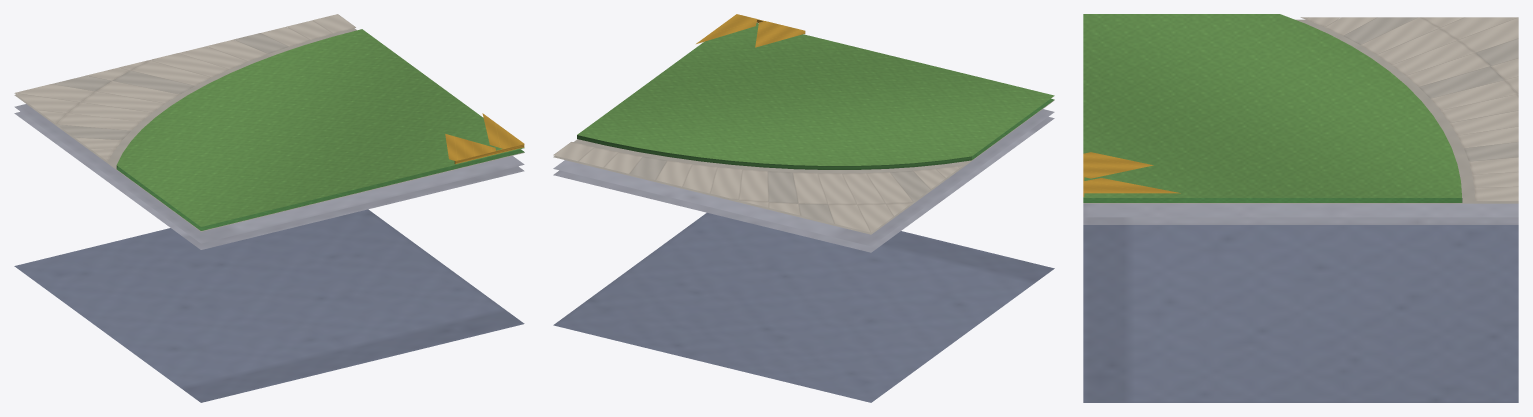
File: high_crown_fracture_27.obj
The picture shows the model from 3 angles, left to right: view 1: azimuth 30°, elevation 25°; view 2: azimuth 150°, elevation 25°; view 3: azimuth 270°, elevation 25°; orthographic projection. The views are drawn at different scales.
Parts seen in each view (by area): view 1: ArenaFracture27; view 2: ArenaFracture27; view 3: ArenaFracture27.
Part boxes in pixels (<box>): ArenaFracture27: <box>14,14,524,402</box>; ArenaFracture27: <box>553,14,1054,402</box>; ArenaFracture27: <box>1083,14,1518,402</box>.
Size of the model in its own units: 10 by 5.31 by 10.
Materials: 7 (7 with a texture image).
